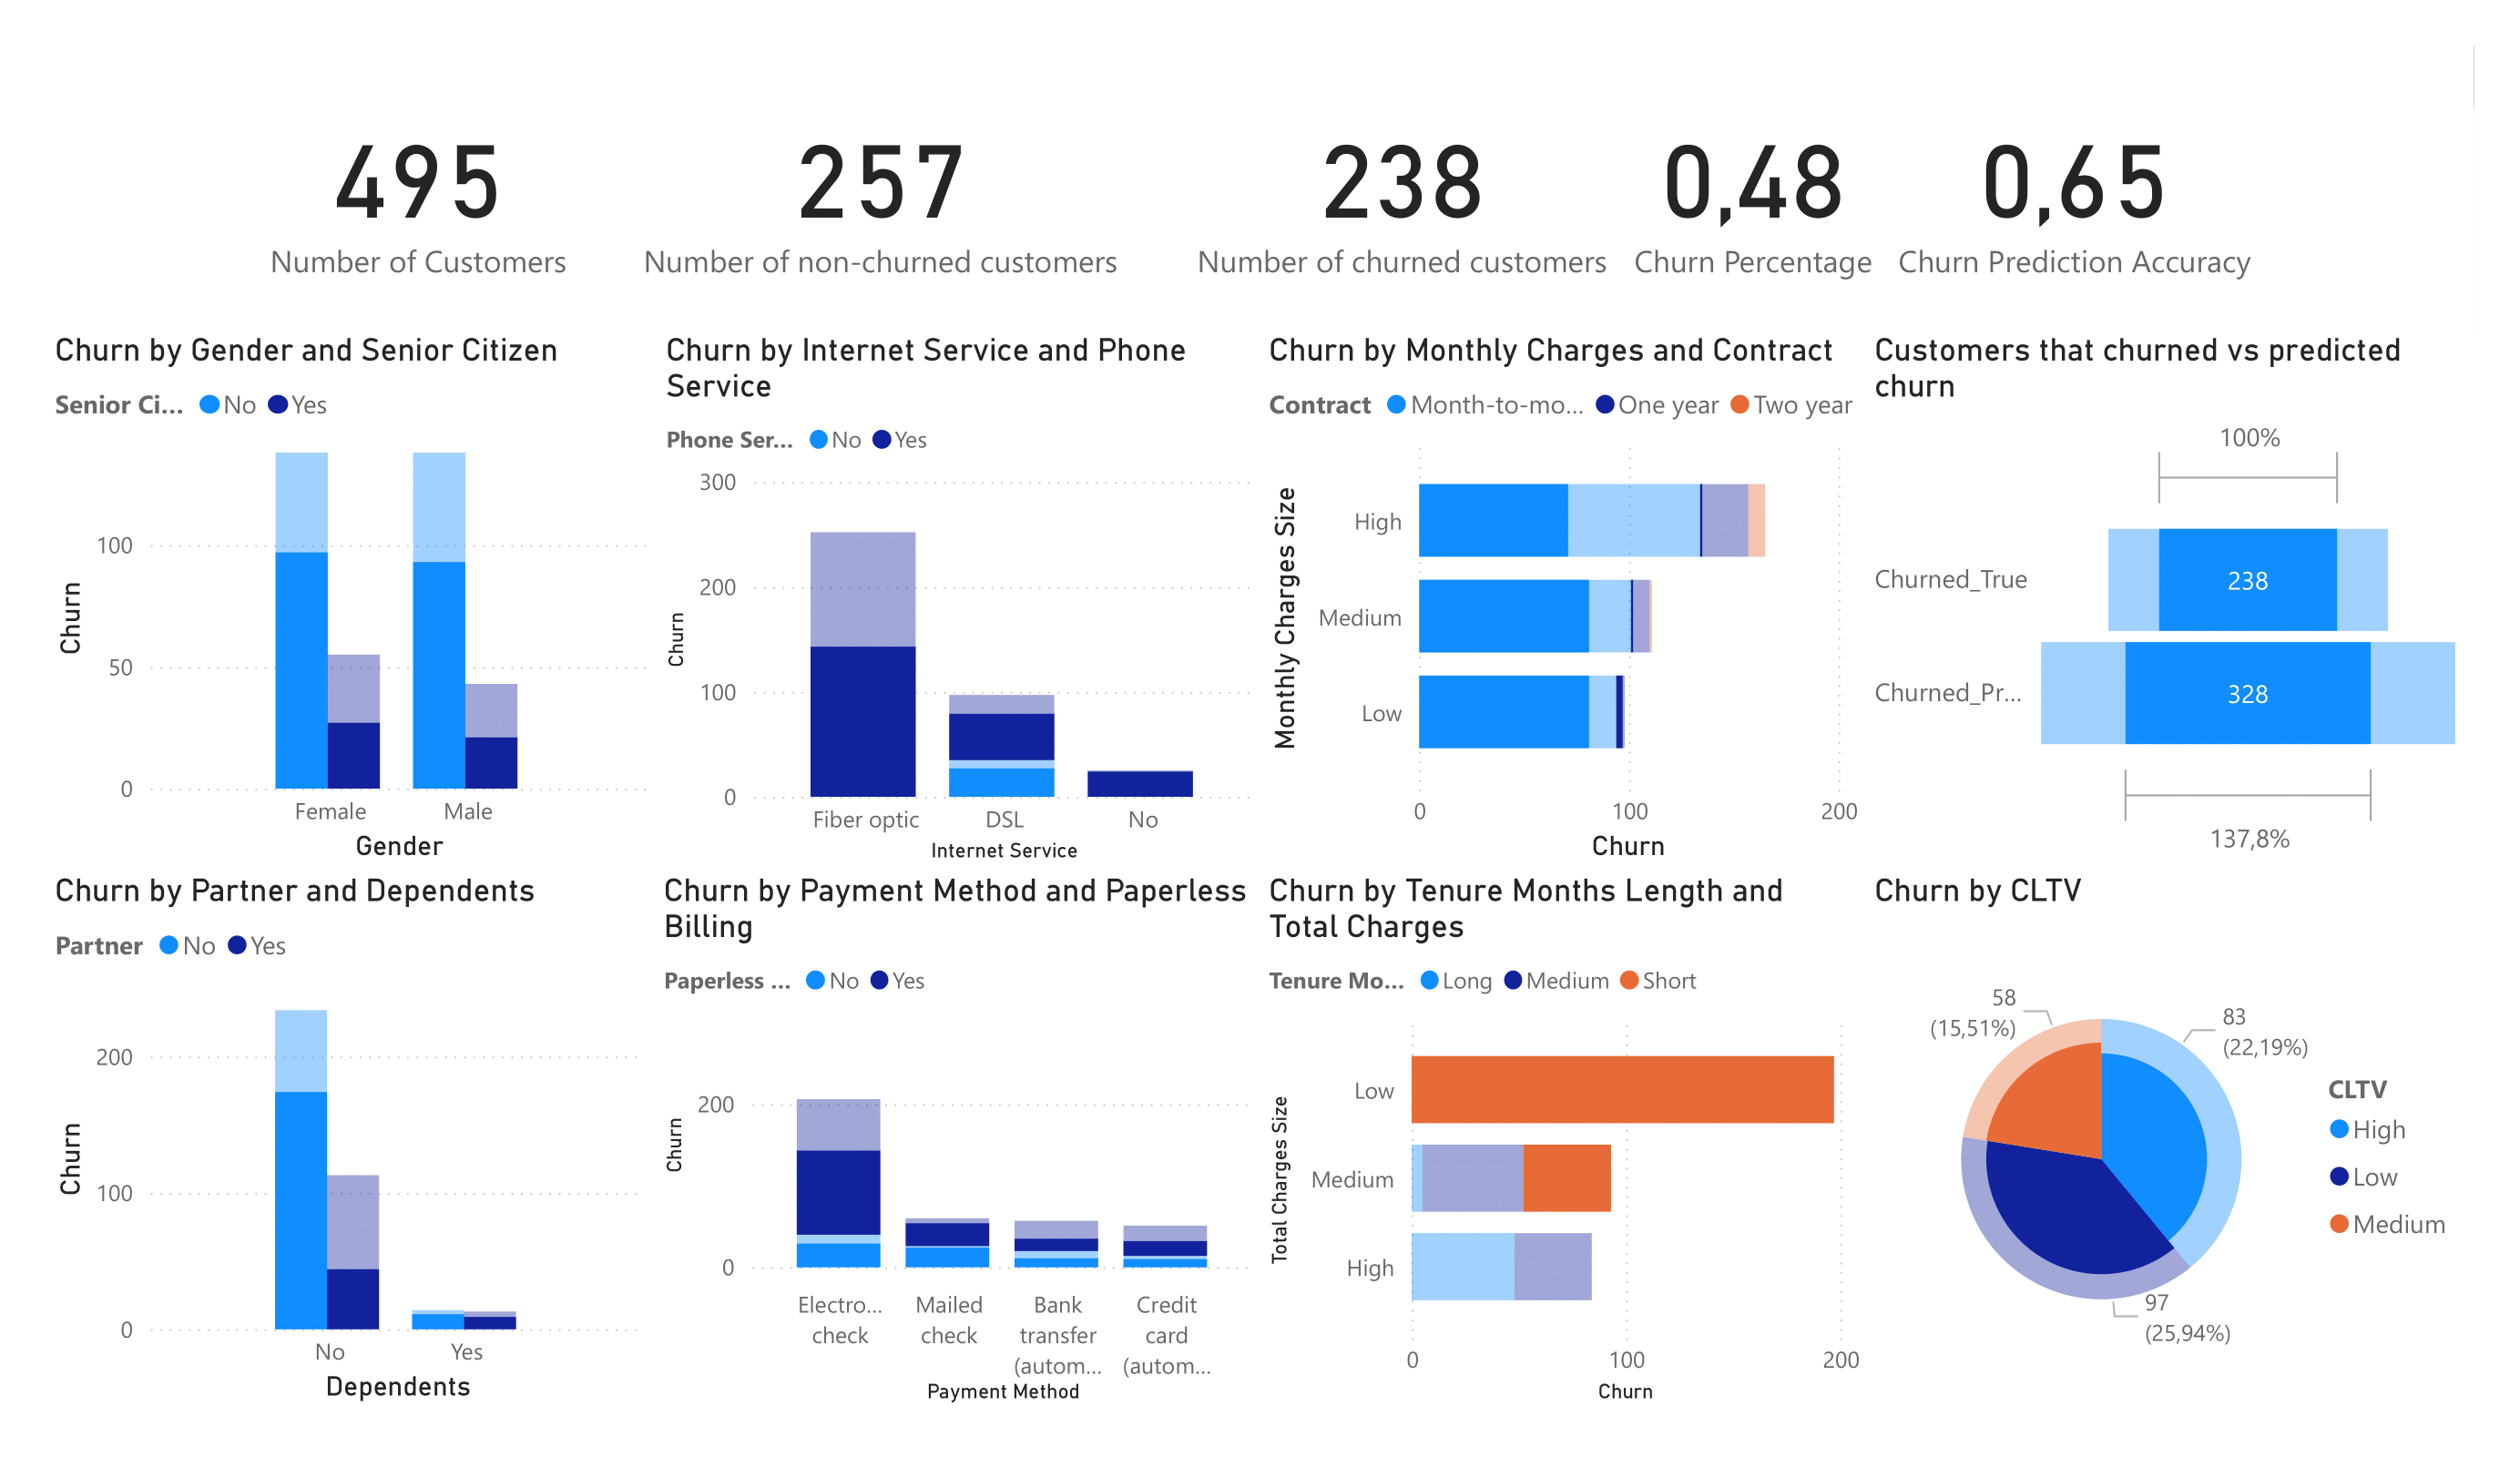

What the dashboard file says about the page in this screenshot:
{"tool":"powerbi","page":{"name":"Side 1","canvas":[1280,720],"ordinal":0},"visuals":[{"type":"card","fields":{"Values":["Avg(Forespørgsel1.y_true)"]},"box":[829.7,0,140.1,149.8],"z":0},{"type":"pieChart","title":"Churn by CLTV","fields":{"Y":["Sum(Attributes.y_true)"],"Category":["Attributes.CLTV Size"]},"box":[959,434.8,321,285],"z":1000},{"type":"card","fields":{"Values":["Attributes.Churn Prediction Accuracy"]},"box":[969.7,0,199.4,149.8],"z":2000},{"type":"barChart","title":"Churn by Tenure Months Length and Total Charges","fields":{"Category":["Attributes.Total Charges Size"],"Series":["Attributes.Tenure Months Length"],"Y":["Sum(Attributes.y_true)"]},"box":[640,434.8,321,285],"z":3000},{"type":"barChart","title":"Churn by Monthly Charges and Contract","fields":{"Category":["Attributes.Monthly Charges Size"],"Y":["Sum(Attributes.y_true)"],"Series":["Attributes.Contract"]},"box":[640,149.8,320,285],"z":4000},{"type":"columnChart","title":"Churn by Payment Method and Paperless Billing","fields":{"Category":["Attributes.Payment Method"],"Y":["Sum(Attributes.y_true)"],"Series":["Attributes.Paperless Billing"]},"box":[321,434.8,321,285],"z":5000},{"type":"columnChart","title":"Churn by Internet Service and Phone Service","fields":{"Category":["Attributes.Internet Service"],"Y":["Sum(Attributes.y_true)"],"Series":["Attributes.Phone Service"]},"box":[321.9,149.8,320,285],"z":6000},{"type":"clusteredColumnChart","title":"Churn by Partner and Dependents","fields":{"Category":["Attributes.Dependents"],"Series":["Attributes.Partner"],"Y":["Sum(Attributes.y_true)"]},"box":[0,434.8,321,285],"z":7000},{"type":"clusteredColumnChart","title":"Churn by Gender and Senior Citizen","fields":{"Category":["Attributes.Gender"],"Series":["Attributes.Senior Citizen"],"Y":["Sum(Attributes.y_true)"]},"box":[0,149.8,321.9,285],"z":8000},{"type":"funnel","title":"Customers that churned vs predicted churn","fields":{"Y":["Sum(Attributes.y_true)","Sum(Attributes.y_pred)"]},"box":[959,149.8,321,285],"z":9000},{"type":"card","fields":{"Values":["CountNonNull(Attributes.y_true)"]},"box":[110.9,0,171.2,149.8],"z":10000},{"type":"card","fields":{"Values":["CountNonNull(Attributes.y_true)"]},"box":[600.1,0,229.5,149.8],"z":11000},{"type":"card","fields":{"Values":["CountNonNull(Attributes.y_true)"]},"box":[280.1,0,320,149.8],"z":12000}]}

Visuals, with their boxes in screenshot pixels (x1, y1, x2, y2):
card - Avg(Forespørgsel1.y_true): 1757, 66, 2020, 346
"Churn by CLTV" pieChart: 1999, 880, 2519, 1413
card - Attributes.Churn Prediction Accuracy: 2019, 66, 2392, 346
"Churn by Tenure Months Length and Total Charges" barChart: 1402, 880, 2003, 1413
"Churn by Monthly Charges and Contract" barChart: 1402, 346, 2001, 880
"Churn by Payment Method and Paperless Billing" columnChart: 804, 880, 1405, 1413
"Churn by Internet Service and Phone Service" columnChart: 806, 346, 1405, 880
"Churn by Partner and Dependents" clusteredColumnChart: 203, 880, 804, 1413
"Churn by Gender and Senior Citizen" clusteredColumnChart: 203, 346, 806, 880
"Customers that churned vs predicted churn" funnel: 1999, 346, 2519, 880
card - CountNonNull(Attributes.y_true): 411, 66, 731, 346
card - CountNonNull(Attributes.y_true): 1327, 66, 1757, 346
card - CountNonNull(Attributes.y_true): 728, 66, 1327, 346
